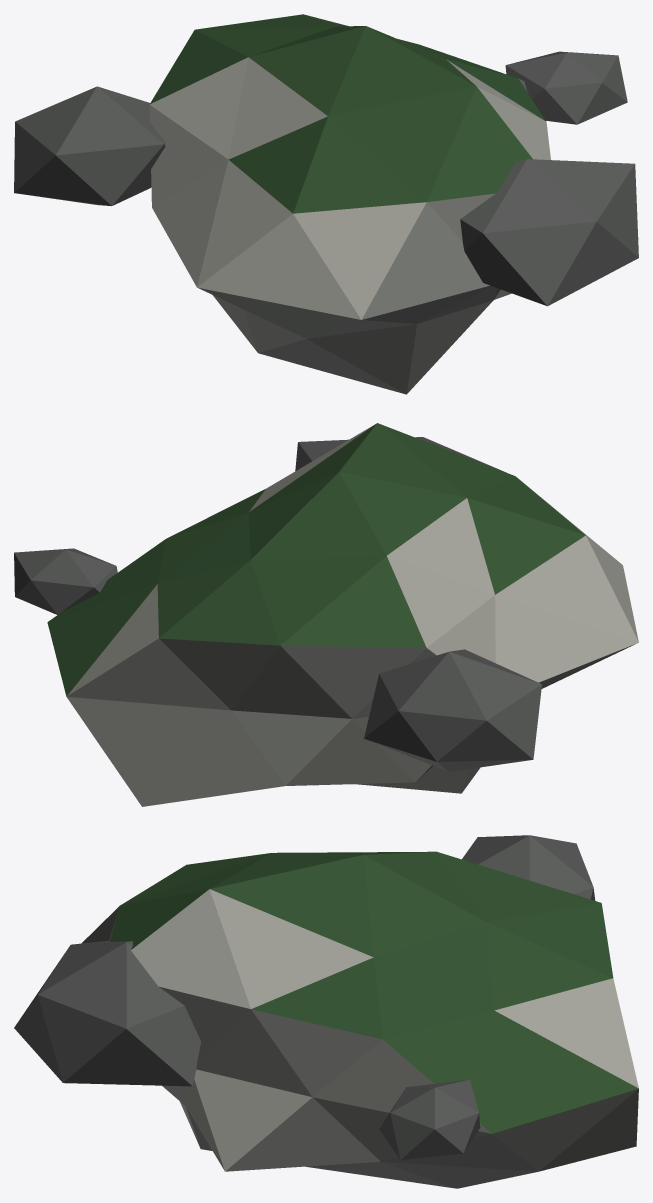
Rendered from rock_02.glb.
3 views of the same model, one above another, from view 1: azimuth 30°, elevation 25°; view 2: azimuth 150°, elevation 25°; view 3: azimuth 270°, elevation 25° (orthographic). The views are drawn at different scales.
Visible parts, largest first — view 1: rock_02; view 2: rock_02; view 3: rock_02.
Part boxes in pixels (left/top/right/bottom): rock_02: left=14, top=14, right=638, bottom=394; rock_02: left=14, top=423, right=638, bottom=806; rock_02: left=14, top=835, right=638, bottom=1188.
Size of what is drawn, in the model's own units: 1.19 by 0.6179 by 1.11.
1 material, 1 textured.
